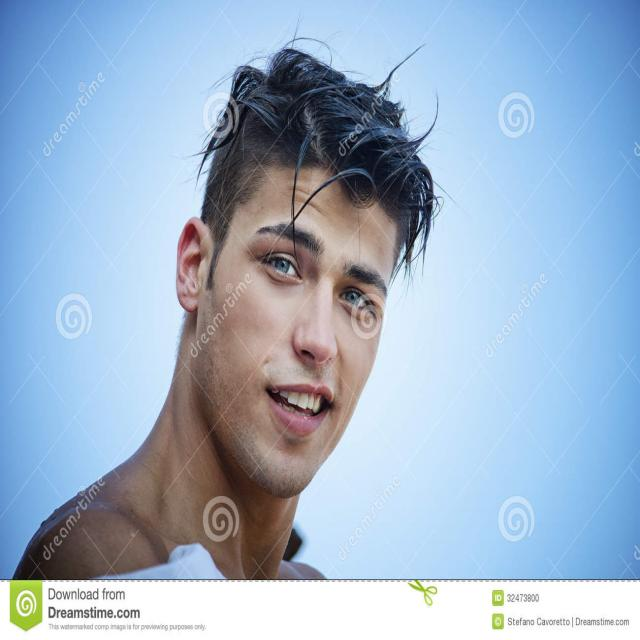earlobe: (182, 287, 198, 313)
eye: (340, 287, 372, 314), (264, 256, 299, 278)
nose: (298, 348, 339, 386)
wholeear: (175, 216, 203, 313)
